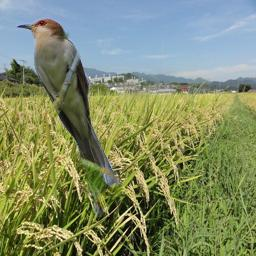Cuckoo: (16, 17, 121, 217)
